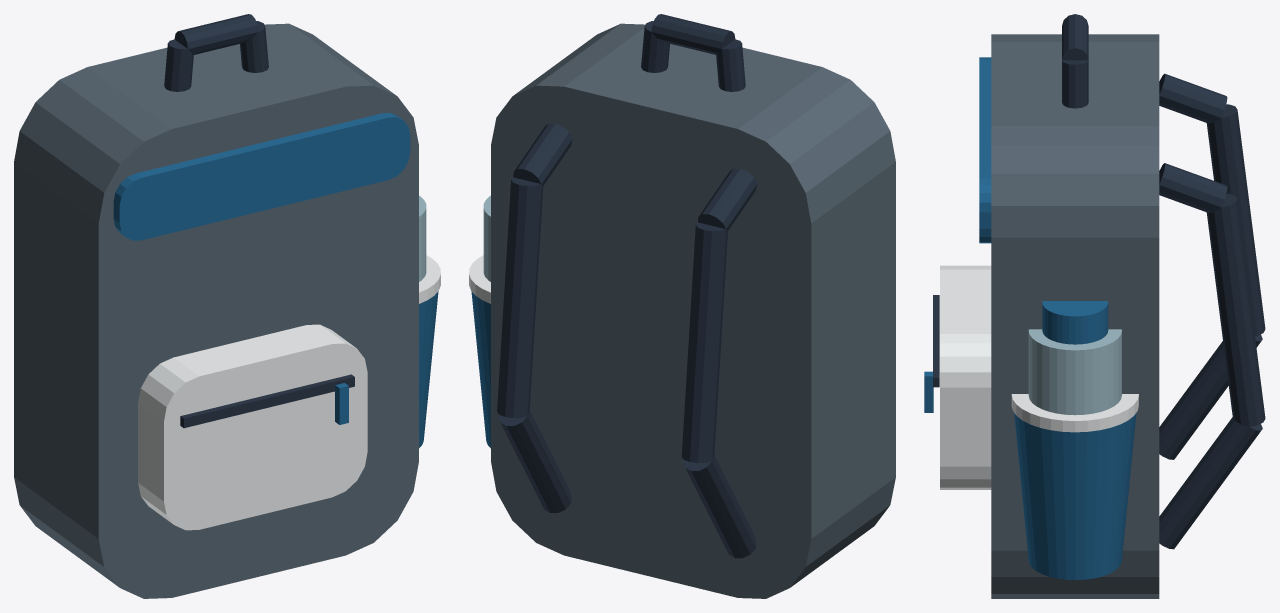
Rendered from backpack.glb.
3 renders of one model, left to right at view 1: azimuth 30°, elevation 25°; view 2: azimuth 150°, elevation 25°; view 3: azimuth 270°, elevation 25°, orthographic.
Visible parts, largest first — view 1: fabric shell, front pocket, lid binding, zip, carry loop1, side pocket, carry loop0, carry loop2, pocket rim, bottle neck, zip pull; view 2: fabric shell, strap -0.341, strap 0.341, strap -0.342, strap 0.342, carry loop1, strap -0.340, strap 0.340, side pocket, carry loop0, carry loop2, pocket rim (+1 smaller); view 3: fabric shell, side pocket, front pocket, strap 0.341, bottle neck, strap 0.342, strap -0.341, strap -0.342, cap, pocket rim, lid binding, strap -0.340 (+4 smaller).
Boxes of the visible parts, x1,y1,x2,y2 form: fabric shell: (14, 23, 418, 598); front pocket: (138, 324, 367, 530); lid binding: (113, 113, 410, 240); zip: (180, 374, 354, 428); carry loop1: (174, 14, 258, 54); side pocket: (419, 291, 438, 448); carry loop0: (164, 39, 193, 91); carry loop2: (240, 21, 268, 72); pocket rim: (419, 255, 440, 303); bottle neck: (419, 195, 426, 281); zip pull: (335, 383, 348, 424); fabric shell: (491, 23, 895, 598); strap -0.341: (681, 222, 727, 463); strap 0.341: (497, 177, 543, 417); strap -0.342: (682, 455, 756, 558); strap 0.342: (497, 410, 571, 512); carry loop1: (651, 14, 735, 54); strap -0.340: (698, 168, 757, 230); strap 0.340: (513, 123, 572, 185); side pocket: (471, 291, 490, 448); carry loop0: (716, 39, 745, 91); carry loop2: (641, 21, 669, 72); pocket rim: (469, 255, 490, 303); fabric shell: (991, 34, 1159, 598); side pocket: (1014, 413, 1136, 580); front pocket: (940, 265, 991, 489); strap 0.341: (1206, 194, 1265, 427); bottle neck: (1028, 329, 1121, 415); strap 0.342: (1159, 417, 1262, 549); strap -0.341: (1206, 104, 1265, 336); strap -0.342: (1159, 334, 1262, 459); cap: (1042, 301, 1108, 344); pocket rim: (1011, 394, 1138, 432); lid binding: (979, 57, 991, 243); strap -0.340: (1159, 73, 1227, 123).
Bounding box in the file's own units: 1.38 × 1.84 × 1.1.
